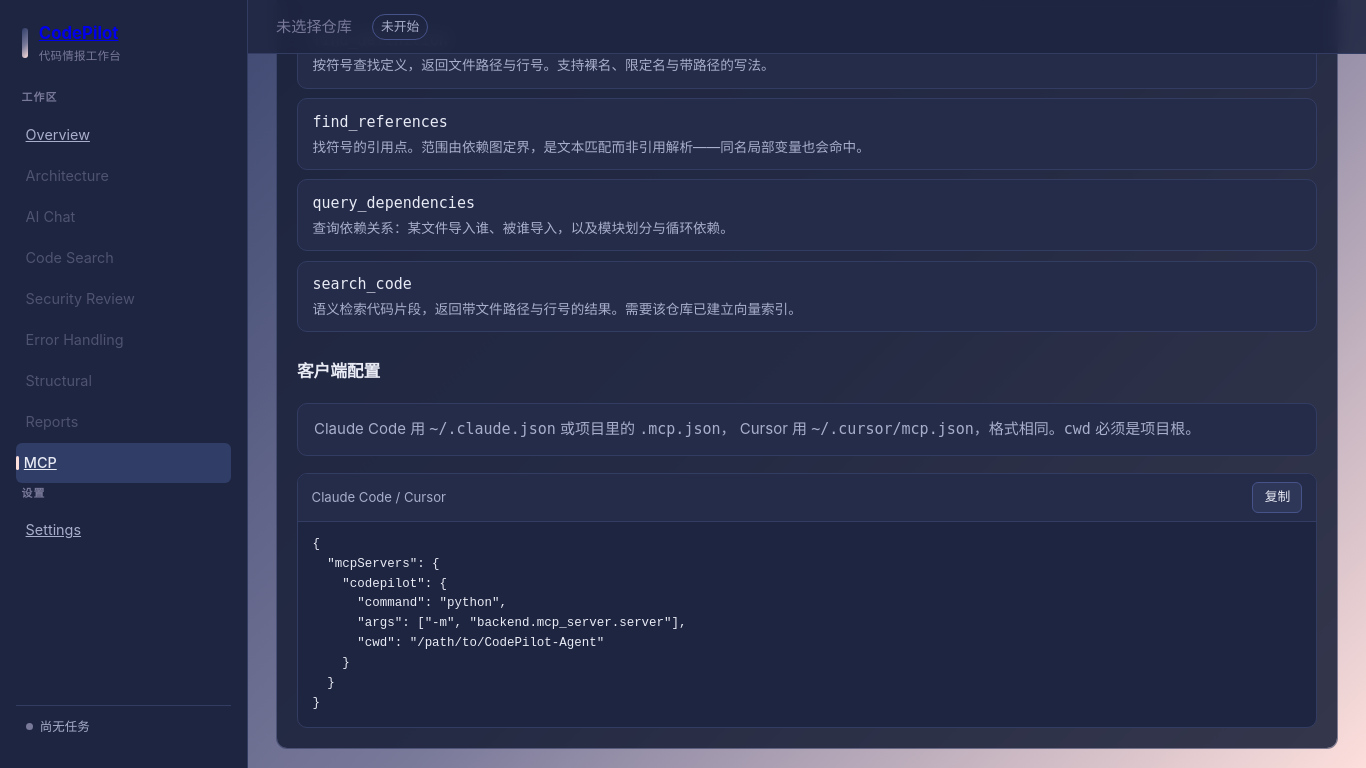
it: 配置片段（AE-16、R-59） › 配置片段可一键复制
The image size is (1366, 768).
(page scrolled)
Click the button "复制".
click(1277, 498)  # box [1252, 482, 1302, 513]
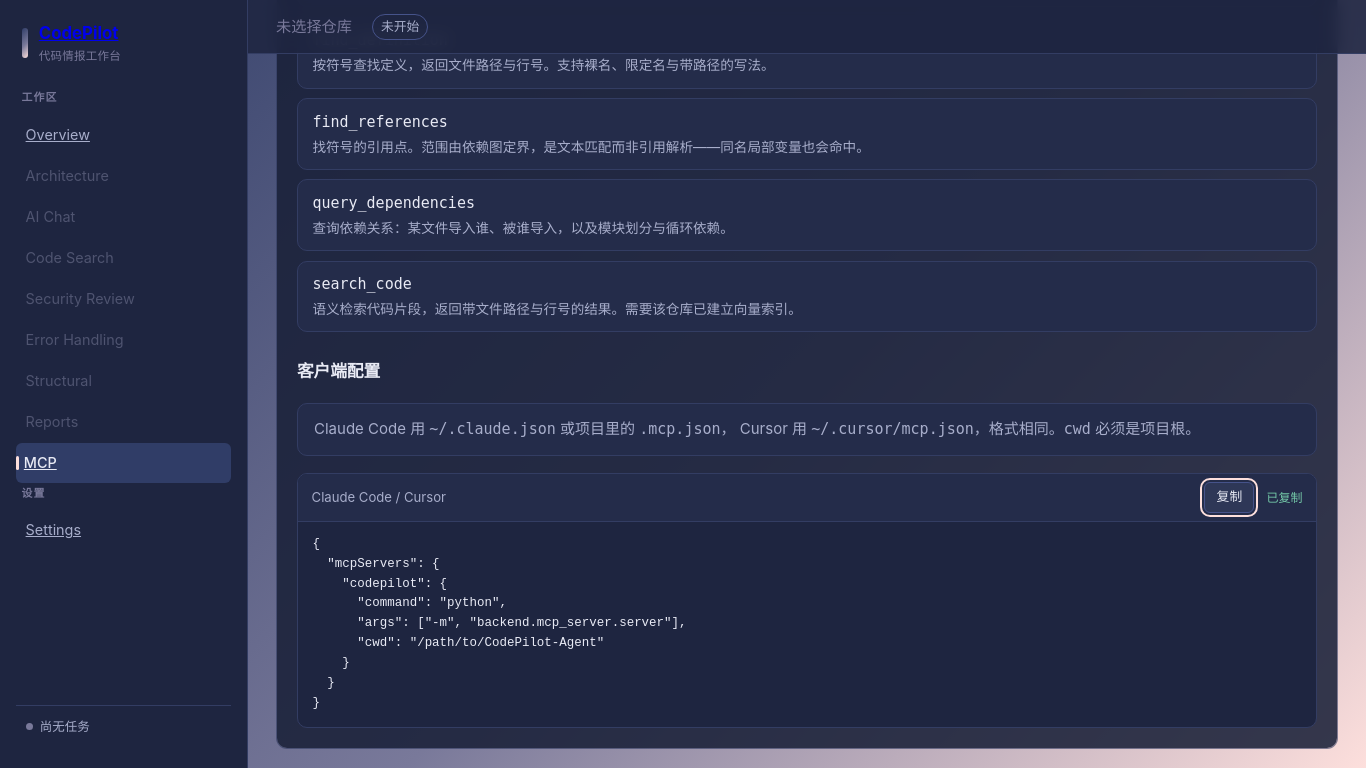
Check: the text "已复制" is shown, box [1266, 488, 1302, 507]
